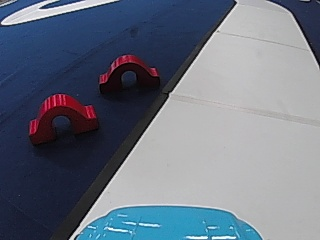bridge: (26, 89, 100, 143), (96, 50, 161, 93)
